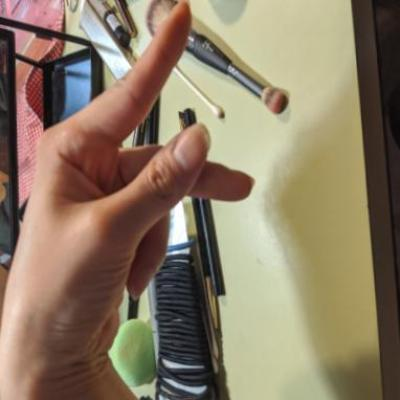hand: (0, 0, 263, 364)
